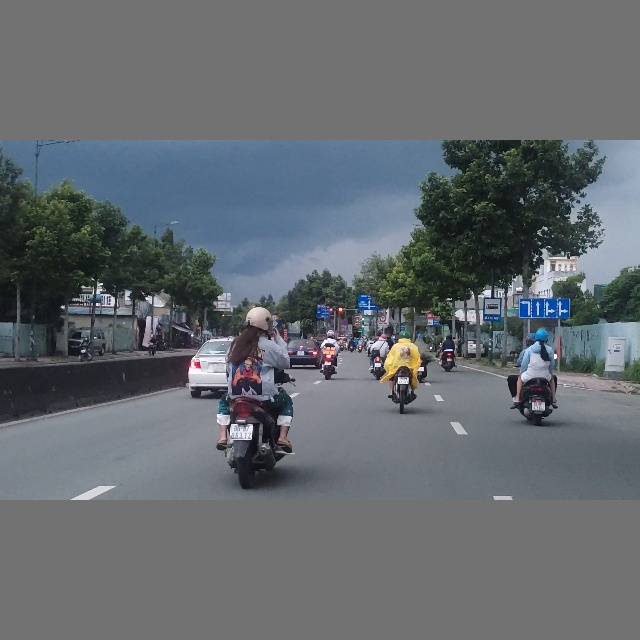I.434a: (484, 297, 501, 321)
P.137: (379, 315, 386, 321)
